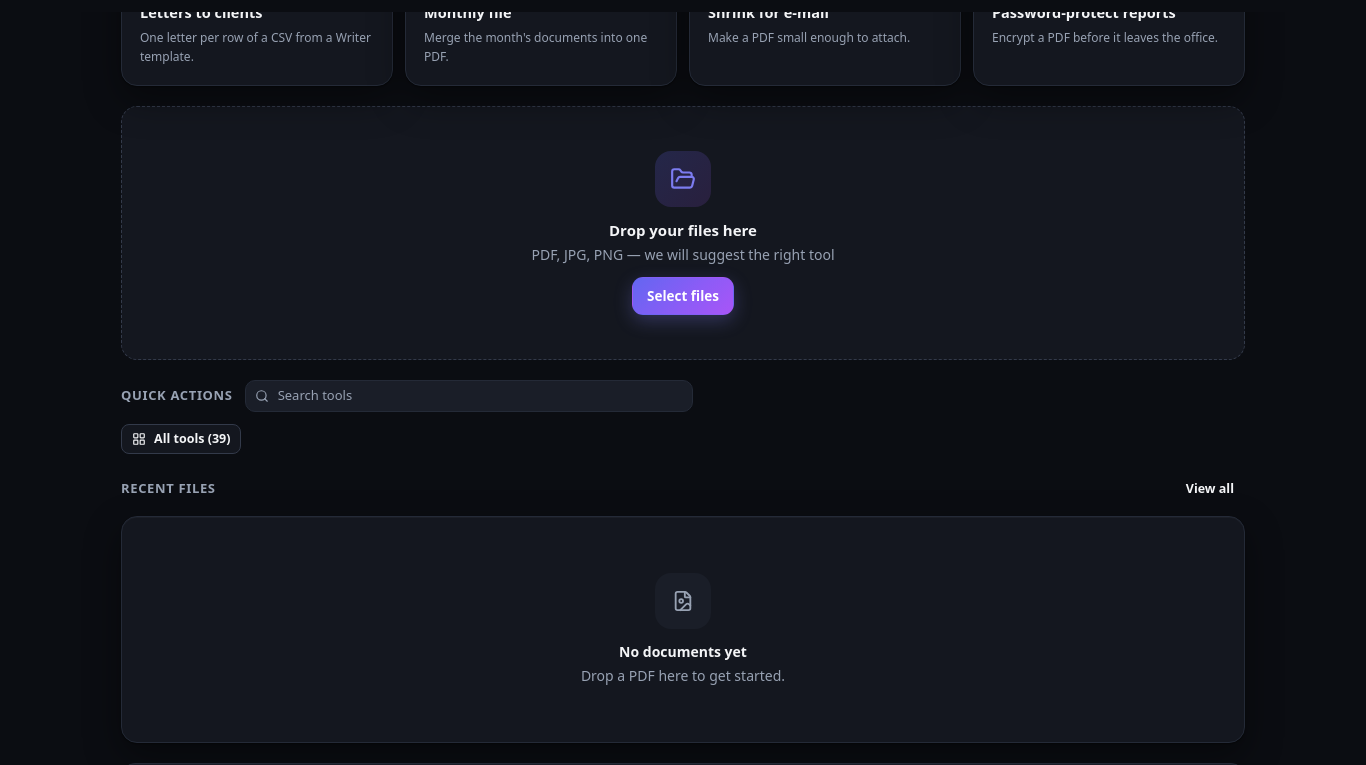
Test case: profession desks on Home › still finds every tool through search while a desk is shown
(page scrolled)
Type "split" into the field labelled "Search tools" at (469, 396), box [245,380,693,412]
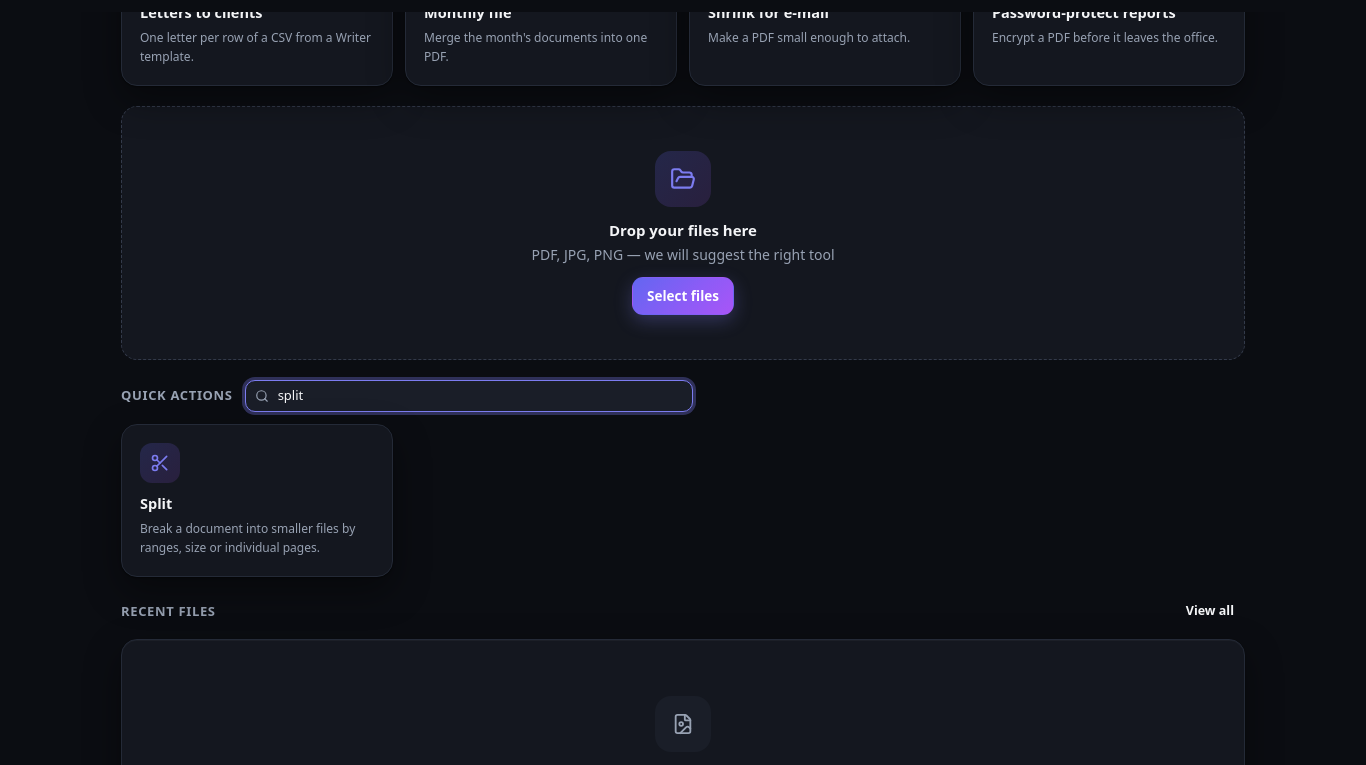
Result: the button "Split" is shown at [121,424,393,577]
